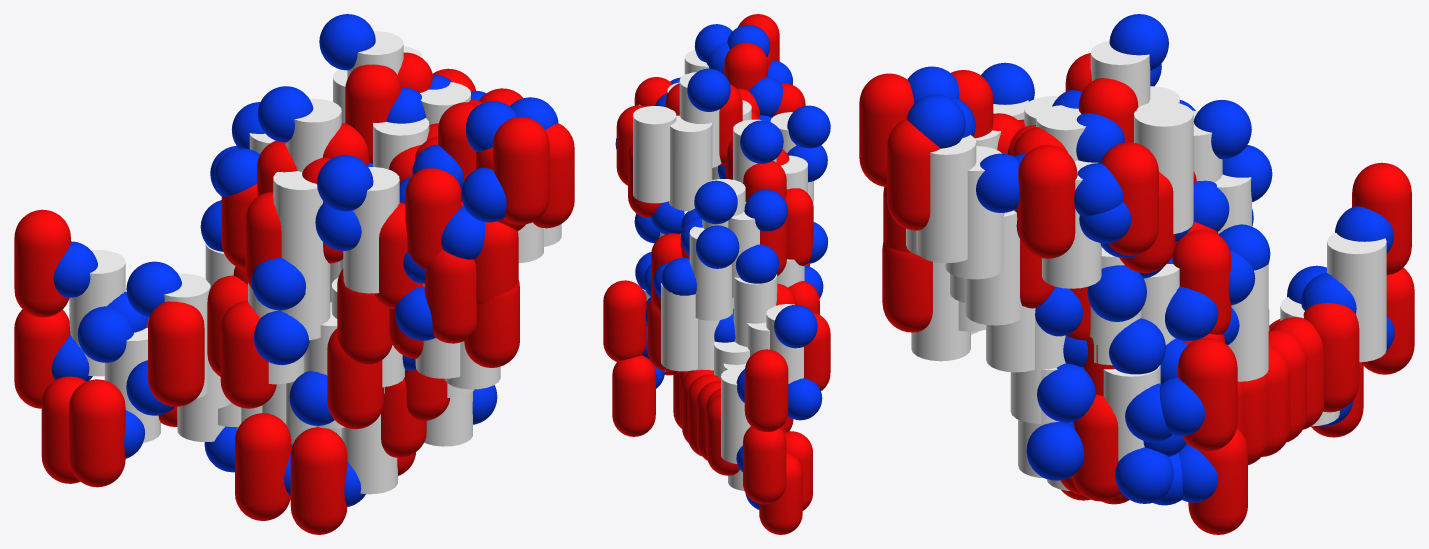
Rendered from GameObject.fbx.
3 views of the same model, side by side, from view 1: azimuth 30°, elevation 25°; view 2: azimuth 150°, elevation 25°; view 3: azimuth 270°, elevation 25° (orthographic). The views are drawn at different scales.
Parts seen in each view (by area): view 1: Capsule_12, Capsule_14, Capsule_6, Capsule_13, Capsule_59, Capsule_9, Cylinder_6, Capsule_5, Capsule_31, Capsule_63, Capsule, Capsule_10 (+63 smaller); view 2: Cylinder_19, Cylinder_17, Capsule_9, Capsule_43, Capsule_41, Capsule_10, Cylinder_13, Cylinder_14, Capsule_11, Cylinder_24, Cylinder_12, Capsule_2 (+56 smaller); view 3: Capsule_46, Cylinder_44, Capsule_41, Cylinder_12, Cylinder_19, Capsule_61, Capsule_37, Capsule_15, Capsule_59, Capsule_9, Capsule_43, Capsule_62 (+62 smaller).
Part boxes in pixels (<box>): Capsule_12: <box>69,379,125,487</box>; Capsule_14: <box>290,427,347,534</box>; Capsule_6: <box>148,301,204,406</box>; Capsule_13: <box>235,413,291,520</box>; Capsule_59: <box>493,117,549,224</box>; Capsule_9: <box>14,209,70,317</box>; Cylinder_6: <box>273,171,329,292</box>; Capsule_5: <box>220,300,276,408</box>; Capsule_31: <box>405,168,461,270</box>; Capsule_63: <box>424,250,476,343</box>; Capsule: <box>327,328,383,429</box>; Capsule_10: <box>14,309,70,408</box>; Cylinder_19: <box>633,106,676,203</box>; Cylinder_17: <box>669,115,712,211</box>; Capsule_9: <box>744,349,788,431</box>; Capsule_43: <box>612,355,655,436</box>; Capsule_41: <box>603,280,646,361</box>; Capsule_10: <box>743,426,786,504</box>; Cylinder_13: <box>661,283,697,371</box>; Cylinder_14: <box>689,226,732,320</box>; Capsule_11: <box>759,452,802,534</box>; Cylinder_24: <box>733,274,777,346</box>; Cylinder_12: <box>721,367,750,463</box>; Capsule_2: <box>785,188,813,265</box>; Capsule_46: <box>1018,145,1077,258</box>; Cylinder_44: <box>916,135,976,263</box>; Capsule_41: <box>1177,337,1237,451</box>; Cylinder_12: <box>1327,233,1386,362</box>; Cylinder_19: <box>1134,101,1193,234</box>; Capsule_61: <box>887,119,940,230</box>; Capsule_37: <box>1101,142,1158,255</box>; Capsule_15: <box>1303,303,1359,412</box>; Capsule_59: <box>859,73,914,186</box>; Capsule_9: <box>1352,162,1411,275</box>; Capsule_43: <box>1188,428,1247,534</box>; Capsule_62: <box>882,242,932,332</box>.
Size of the model in its own units: 714 by 949 by 930.
